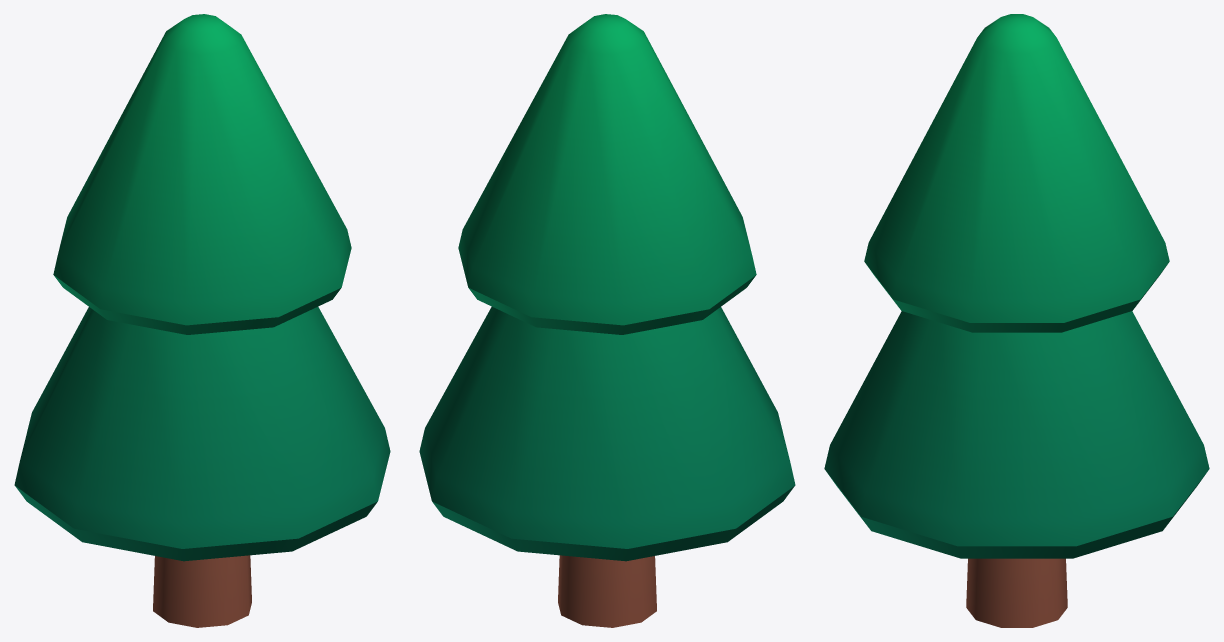
Rendered from kk_tree_B.glb.
3 renders of one model, left to right at view 1: azimuth 30°, elevation 25°; view 2: azimuth 150°, elevation 25°; view 3: azimuth 270°, elevation 25°, orthographic.
Parts seen in each view (by area): view 1: tree_single_B; view 2: tree_single_B; view 3: tree_single_B.
Boxes of the visible parts, x1=… form: tree_single_B: x1=14, y1=14, x2=390, y2=627; tree_single_B: x1=419, y1=14, x2=795, y2=627; tree_single_B: x1=824, y1=14, x2=1209, y2=627.
Bounding box in the file's own units: 0.6849 × 1.21 × 0.7201.
1 material, 1 textured.
